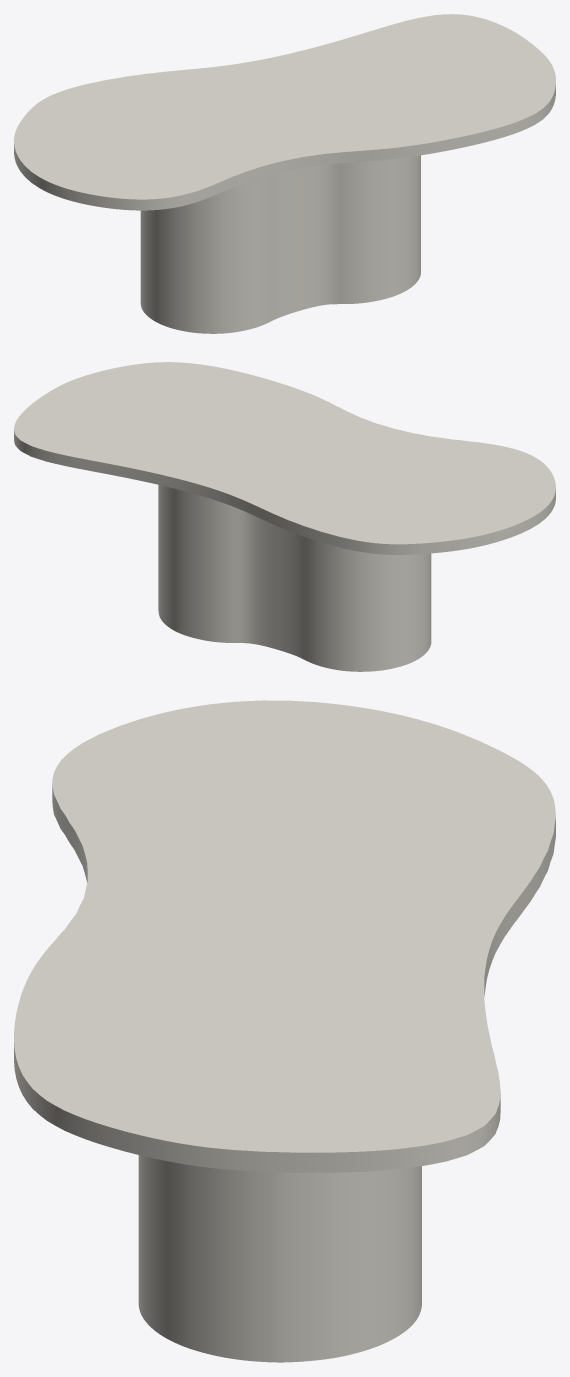
The model's file is pale_wave_standard_riverwave.glb.
3 views of the same model, one above another, from view 1: azimuth 30°, elevation 25°; view 2: azimuth 150°, elevation 25°; view 3: azimuth 270°, elevation 25° (orthographic). The views are drawn at different scales.
Parts seen in each view (by area): view 1: standard_wave, riverwave; view 2: standard_wave, riverwave; view 3: standard_wave, riverwave.
Part boxes in pixels (x1,y1,x2,y2): standard_wave: (14, 14, 555, 210); riverwave: (140, 155, 420, 333); standard_wave: (14, 362, 555, 554); riverwave: (158, 485, 431, 671); standard_wave: (14, 700, 555, 1172); riverwave: (138, 1155, 421, 1362).
Size of the model in its own units: 7.5 by 2.5 by 3.8.
1 material, 1 textured.
